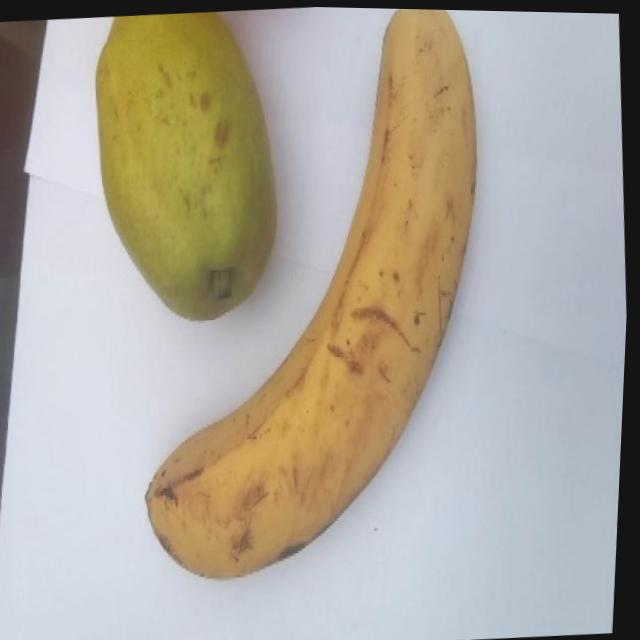Banana: (111, 2, 513, 590)
